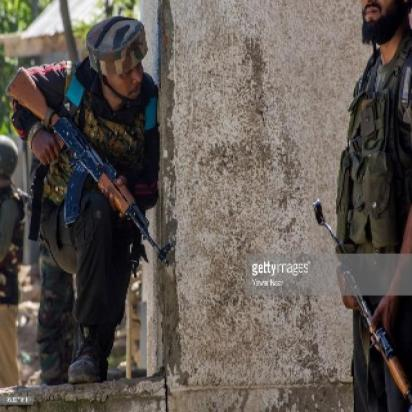Gun: (4, 96, 176, 266)
